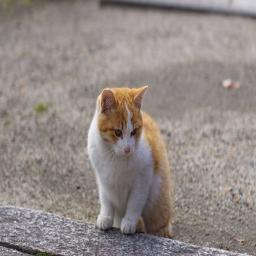catnose: (124, 146, 131, 154)
